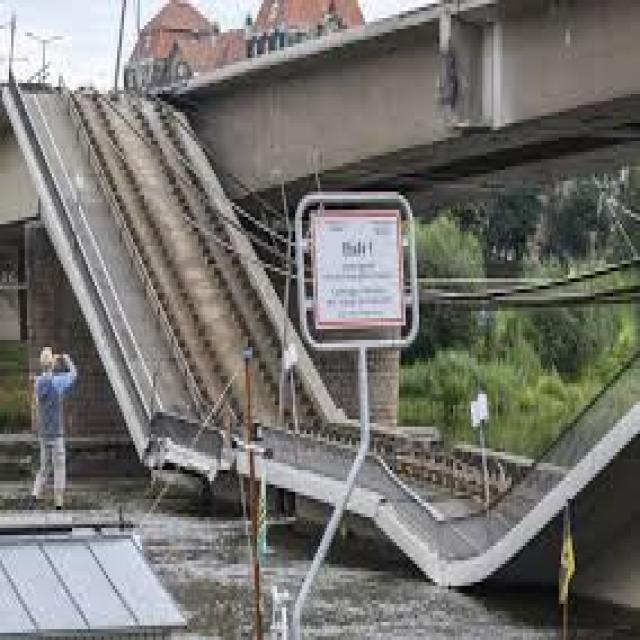bridge collapse: (7, 40, 640, 604)
